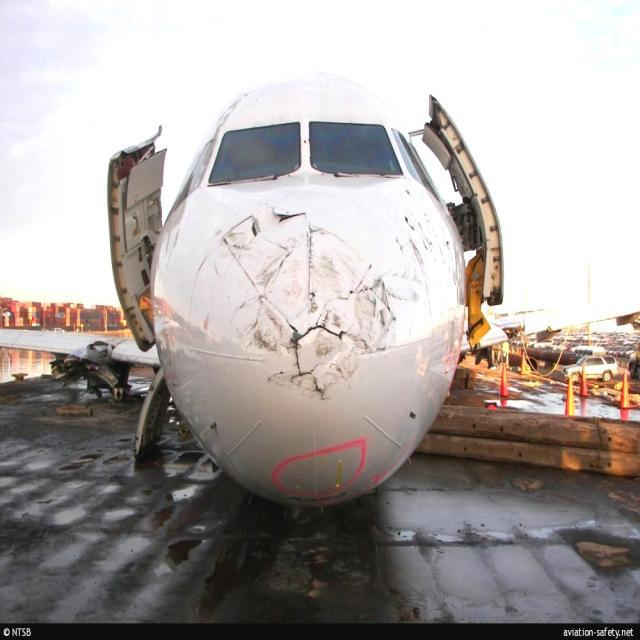crack: (215, 207, 402, 409)
